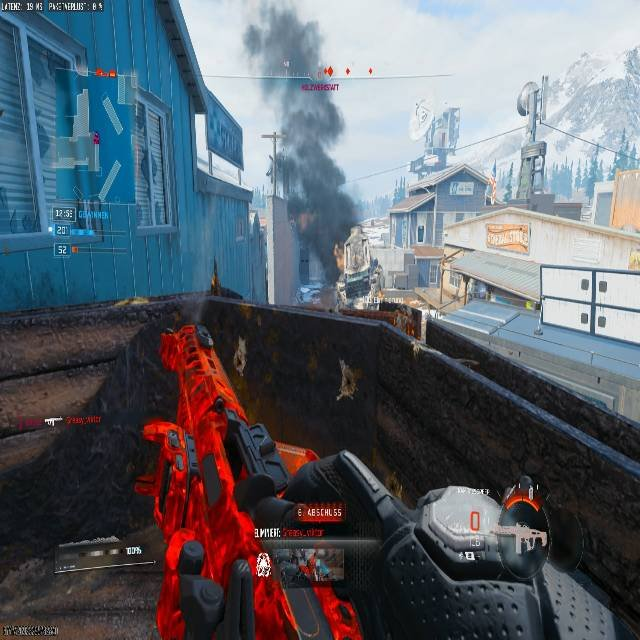player: (368, 259, 383, 297)
